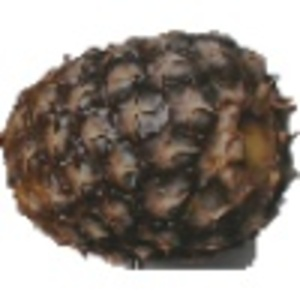abacaxi: (4, 27, 295, 260)
